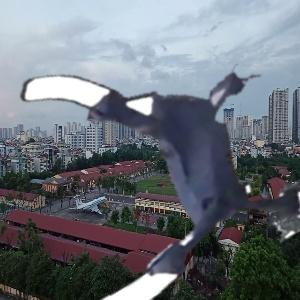drone: (20, 20, 298, 298)
